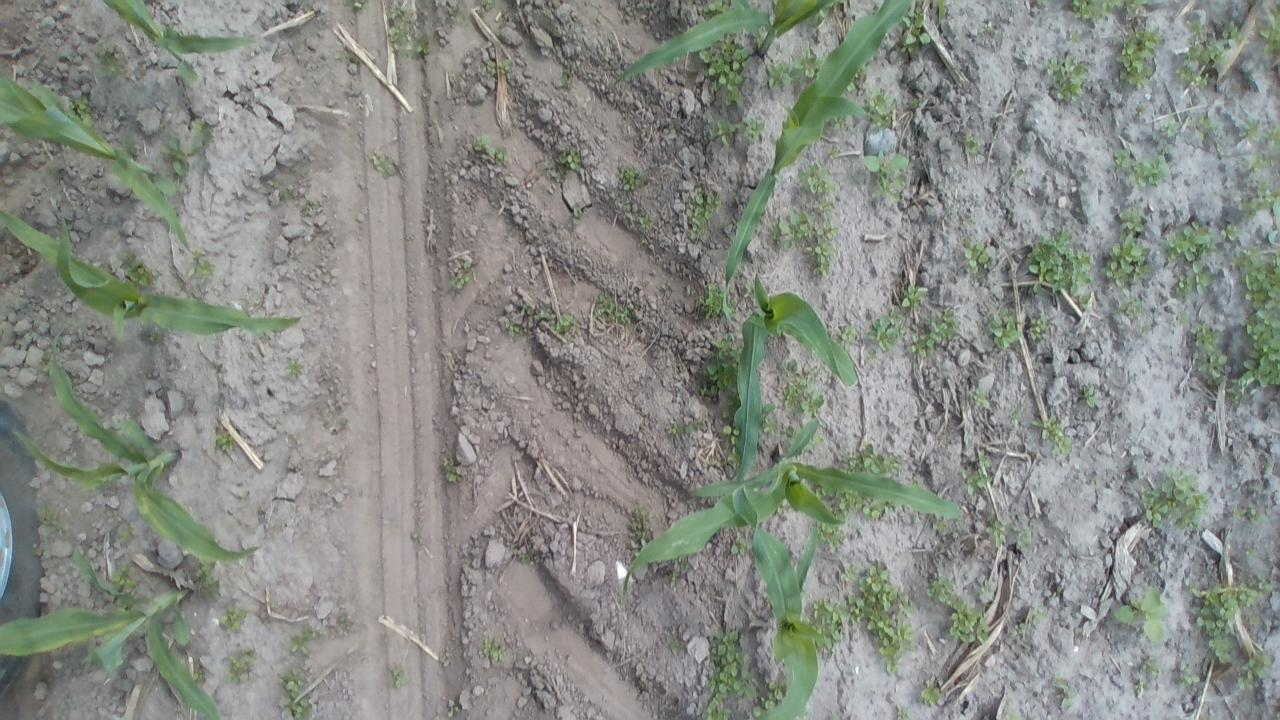Maize: (623, 418, 962, 594), (14, 330, 262, 562), (724, 0, 911, 306), (0, 208, 301, 338), (0, 557, 221, 719), (0, 74, 195, 253), (733, 271, 857, 483), (731, 486, 824, 720), (612, 1, 834, 88), (103, 0, 255, 82)
Weeds: (848, 567, 914, 668), (1240, 264, 1280, 388), (710, 630, 759, 720), (1028, 228, 1090, 294), (1115, 589, 1165, 641), (1102, 236, 1151, 286), (1118, 28, 1158, 88), (1192, 585, 1238, 636), (1194, 325, 1227, 384), (1167, 224, 1217, 262), (1049, 54, 1088, 102), (864, 154, 907, 197), (703, 50, 748, 85), (1070, 0, 1148, 20), (1172, 494, 1210, 529), (928, 579, 968, 611), (844, 448, 898, 471), (784, 382, 823, 413), (595, 288, 632, 320), (988, 312, 1022, 346), (1239, 654, 1271, 690), (775, 212, 812, 243), (950, 613, 989, 641), (811, 598, 846, 628), (868, 318, 898, 352), (706, 363, 736, 396), (162, 140, 190, 174), (904, 16, 930, 52), (1163, 474, 1196, 502), (798, 166, 833, 192), (1259, 12, 1280, 55), (1134, 156, 1166, 184), (228, 650, 256, 682), (932, 311, 958, 345), (702, 286, 728, 318), (766, 62, 796, 88), (690, 193, 706, 239), (1188, 42, 1222, 63), (1208, 636, 1232, 664), (794, 48, 816, 78), (1056, 678, 1076, 710), (1031, 415, 1057, 439), (222, 604, 246, 630), (812, 245, 832, 276), (288, 692, 310, 719), (524, 306, 556, 324), (967, 244, 989, 270), (626, 506, 652, 528), (900, 286, 928, 306), (130, 262, 158, 282), (95, 49, 114, 78), (961, 470, 986, 492), (1234, 246, 1259, 268), (869, 88, 894, 110), (1190, 262, 1208, 292), (712, 121, 739, 141), (1234, 190, 1258, 212), (1120, 210, 1145, 231), (188, 115, 209, 138), (986, 521, 1006, 545), (279, 670, 303, 690), (373, 156, 398, 175), (1142, 503, 1168, 521), (719, 336, 737, 362), (192, 255, 212, 278), (912, 334, 932, 356), (1240, 120, 1262, 140), (730, 538, 750, 560), (387, 22, 408, 42), (859, 501, 882, 519), (389, 664, 406, 688), (290, 636, 310, 656), (825, 529, 843, 551), (1026, 318, 1044, 340), (970, 448, 991, 466), (1178, 665, 1200, 682), (812, 197, 834, 214), (1127, 299, 1143, 322), (1248, 154, 1274, 168), (622, 170, 640, 190), (1257, 186, 1275, 206), (284, 357, 302, 377), (1220, 25, 1242, 41), (704, 196, 720, 218), (1116, 146, 1132, 168), (764, 683, 780, 705), (1078, 388, 1096, 407), (1050, 437, 1070, 454), (974, 388, 991, 408), (1160, 118, 1178, 136), (444, 464, 462, 482), (1240, 588, 1260, 604), (1174, 275, 1190, 295), (554, 316, 574, 332), (481, 642, 502, 656), (1264, 128, 1280, 146), (448, 700, 464, 718), (921, 687, 940, 702), (674, 423, 689, 442), (216, 432, 233, 448), (1142, 485, 1160, 500), (838, 326, 856, 341), (746, 120, 765, 134), (390, 3, 404, 21), (518, 553, 540, 564), (1032, 606, 1048, 621), (726, 89, 743, 103), (199, 569, 213, 586), (871, 114, 894, 124), (72, 98, 91, 110), (840, 496, 856, 510), (452, 272, 468, 286), (1222, 224, 1236, 240), (1196, 118, 1212, 132), (1178, 65, 1192, 80), (414, 41, 430, 54), (1192, 74, 1208, 87), (566, 153, 578, 170), (506, 320, 523, 332), (816, 222, 834, 233), (475, 136, 489, 150), (1017, 533, 1031, 546), (639, 216, 651, 230), (896, 706, 910, 718), (706, 2, 724, 11), (967, 138, 977, 154), (766, 422, 778, 434), (1234, 507, 1246, 518), (500, 58, 510, 71), (302, 627, 316, 636), (572, 207, 582, 218), (498, 150, 508, 160), (1014, 622, 1024, 632), (194, 668, 204, 678), (354, 1, 366, 8), (463, 258, 472, 267)
